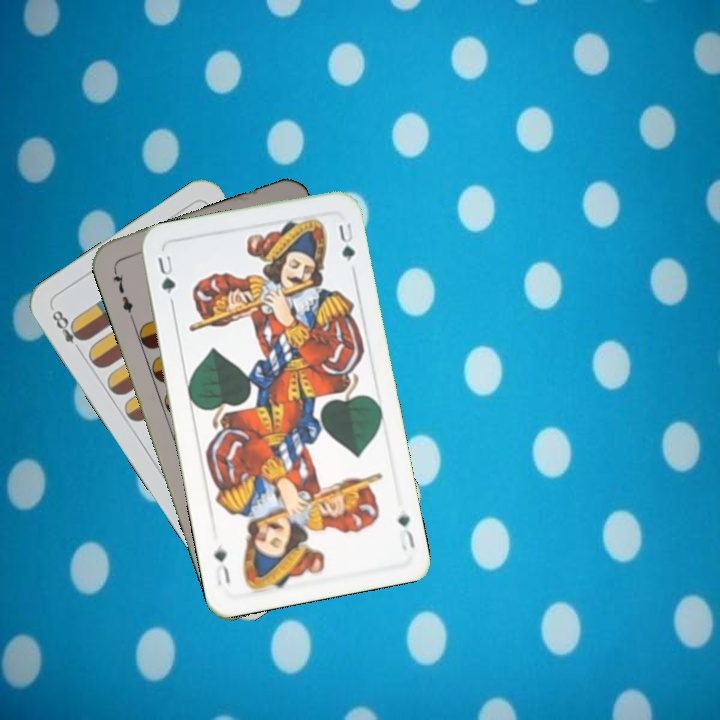E7: (108, 264, 136, 321)
E8: (47, 306, 88, 357)
GU: (153, 251, 179, 297), (393, 509, 418, 553)
